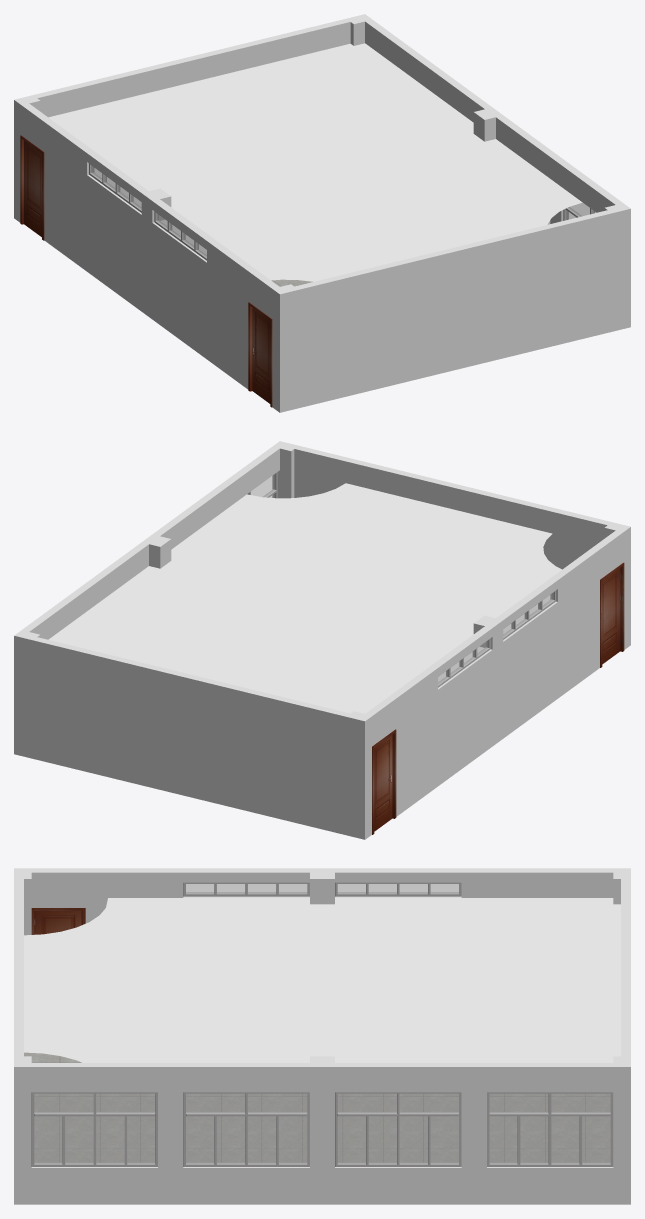
File: room.glb
The picture shows the model from 3 angles, top to bottom: view 1: azimuth 30°, elevation 25°; view 2: azimuth 150°, elevation 25°; view 3: azimuth 270°, elevation 25°; orthographic projection. The views are drawn at different scales.
Parts seen in each view (by area): view 1: Line002, Line004; view 2: Line002, Line004; view 3: Line002, Line004.
Part boxes in pixels (x1=…): Line002: x1=14, y1=14, x2=630, y2=412; Line004: x1=48, y1=43, x2=582, y2=281; Line002: x1=14, y1=441, x2=630, y2=839; Line004: x1=48, y1=483, x2=561, y2=713; Line002: x1=14, y1=868, x2=630, y2=1204; Line004: x1=24, y1=898, x2=620, y2=1062.
Bounding box in the file's own units: 9.32 × 3 × 12.2.
13 materials, 11 textured.
